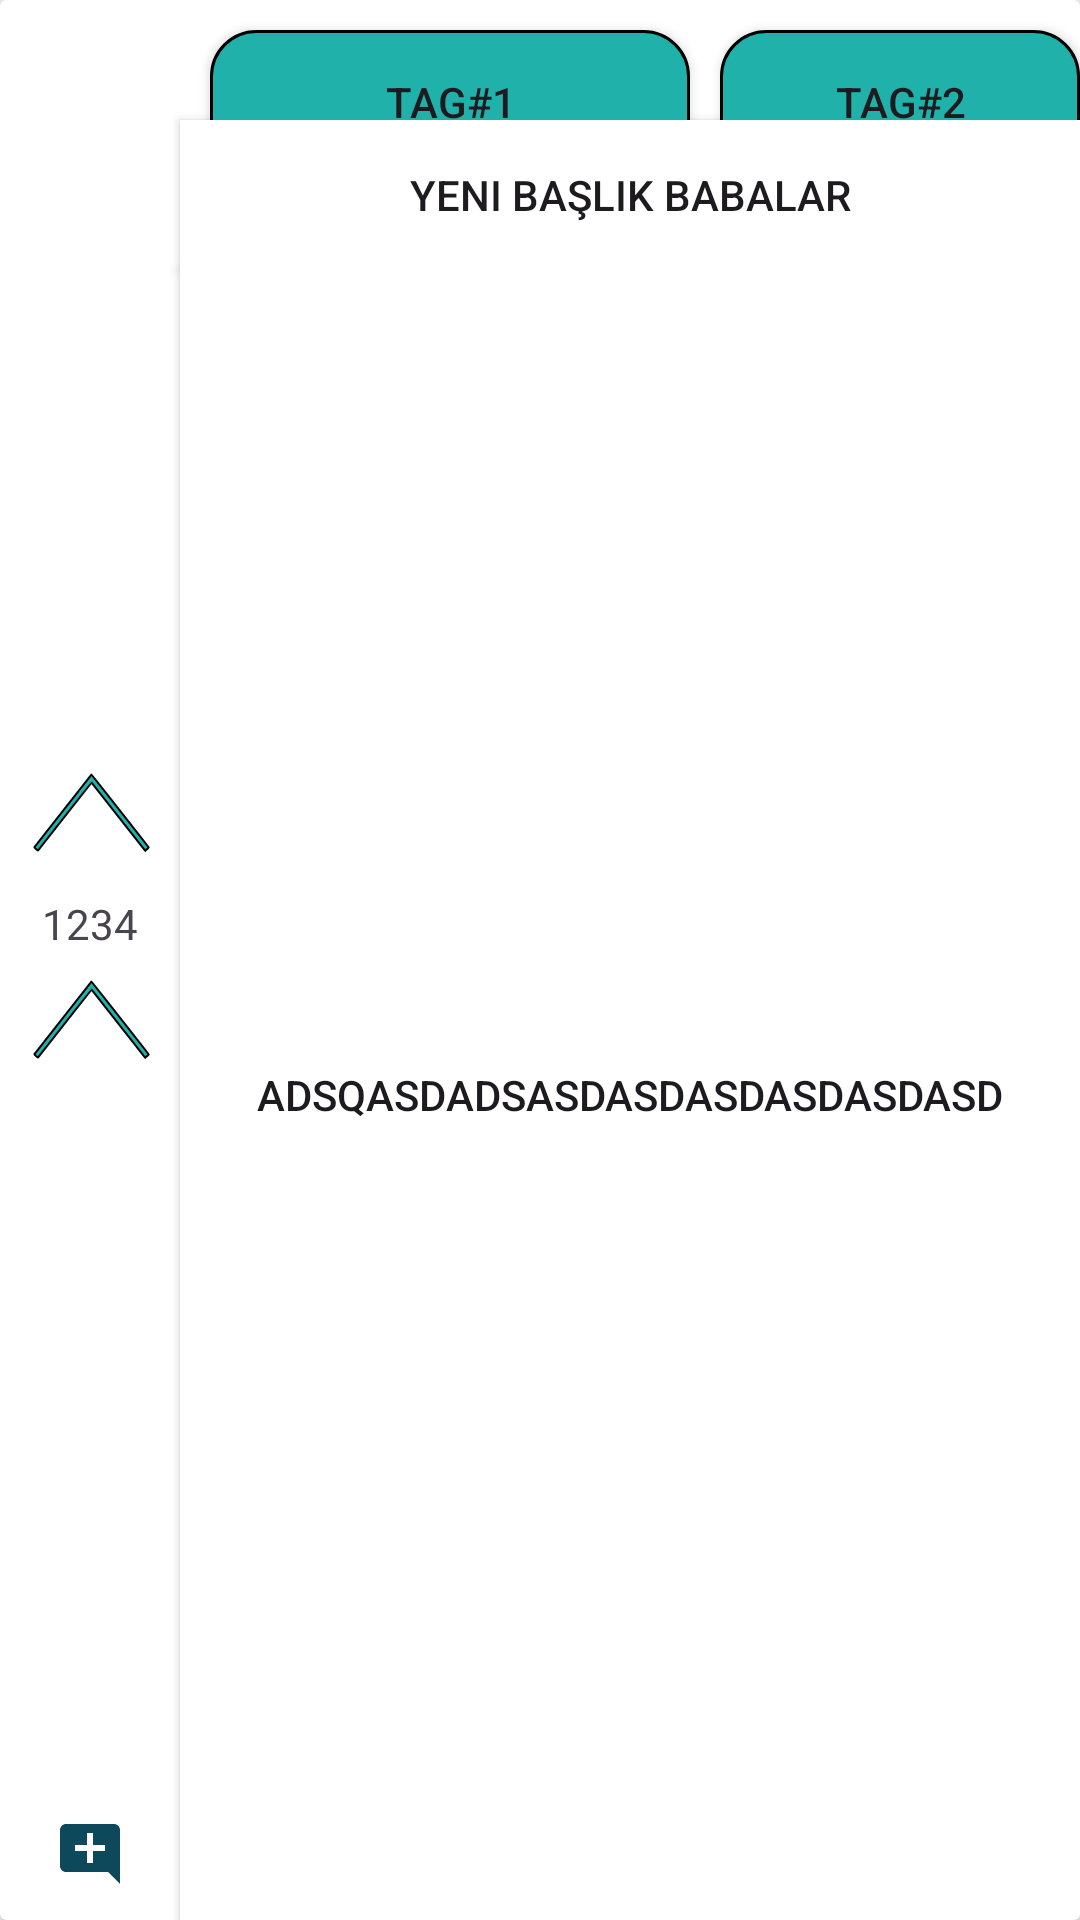

Named icons in this screenshot (1080px x 1920px) and their bounding boxes, [x1=x1, y1=y1, x2=x2, y2=y2]:
add comment: [x1=60, y1=1824, x2=120, y2=1884]
